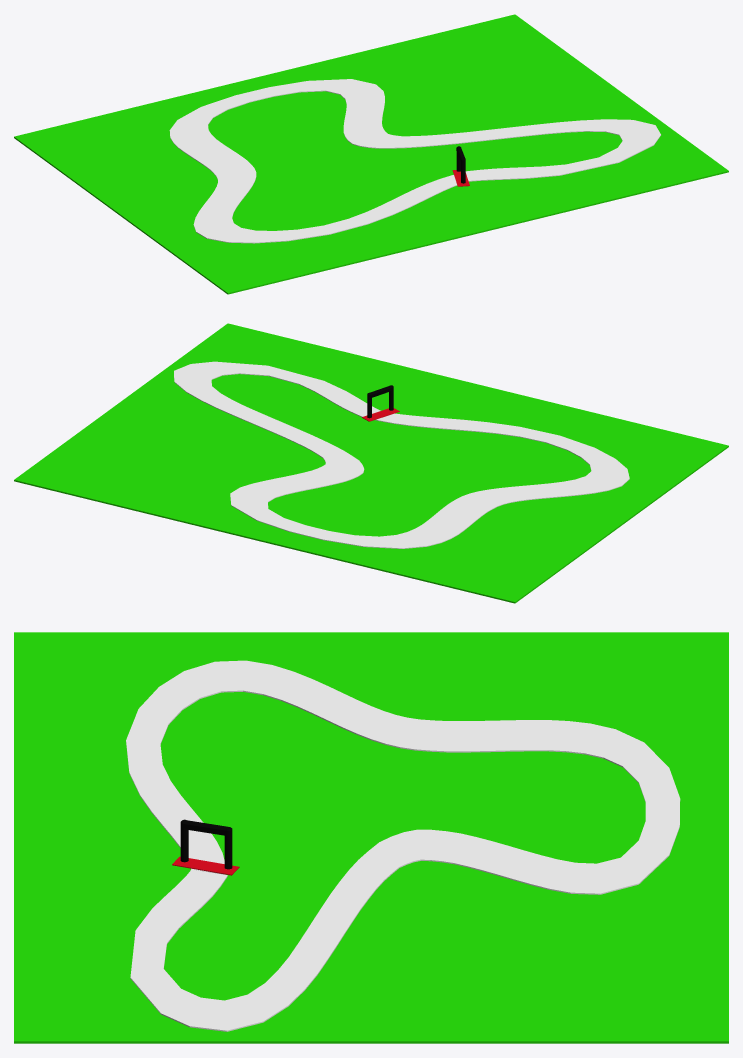
Rendered from Circuito.glb.
3 views of the same model, one above another, from view 1: azimuth 30°, elevation 25°; view 2: azimuth 150°, elevation 25°; view 3: azimuth 270°, elevation 25° (orthographic). The views are drawn at different scales.
Parts seen in each view (by area): view 1: Plane.002, Plane; view 2: Plane.002, Plane; view 3: Plane.002, Plane, Cylinder.006.
Part boxes in pixels (x1=…): Plane.002: x1=14, y1=14, x2=728, y2=294; Plane: x1=169, y1=79, x2=660, y2=243; Plane.002: x1=14, y1=323, x2=728, y2=603; Plane: x1=174, y1=361, x2=629, y2=548; Plane.002: x1=14, y1=632, x2=728, y2=1043; Plane: x1=126, y1=660, x2=680, y2=1031; Cylinder.006: x1=180, y1=819, x2=232, y2=869.
Bounding box in the file's own units: 279 × 15.18 × 206.
